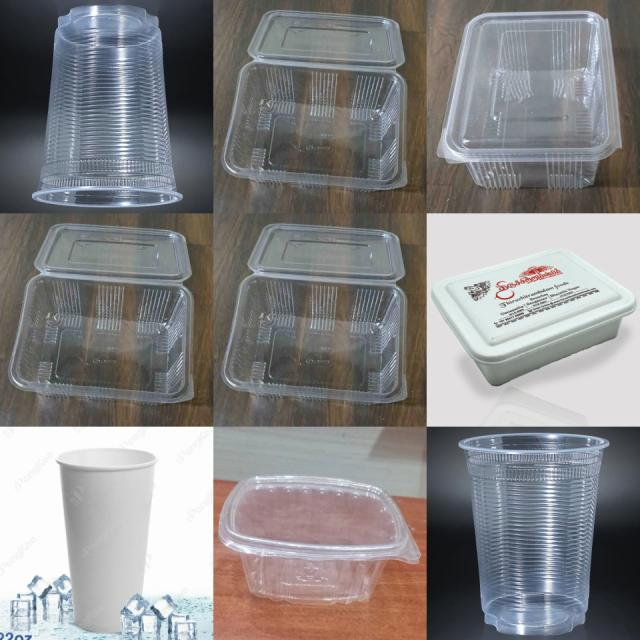Single-Use-Plastic: (222, 10, 408, 190), (9, 224, 194, 403), (438, 11, 621, 189), (222, 224, 405, 402), (459, 432, 609, 635), (32, 6, 182, 207), (431, 249, 635, 385), (219, 476, 420, 603), (56, 449, 158, 632)
